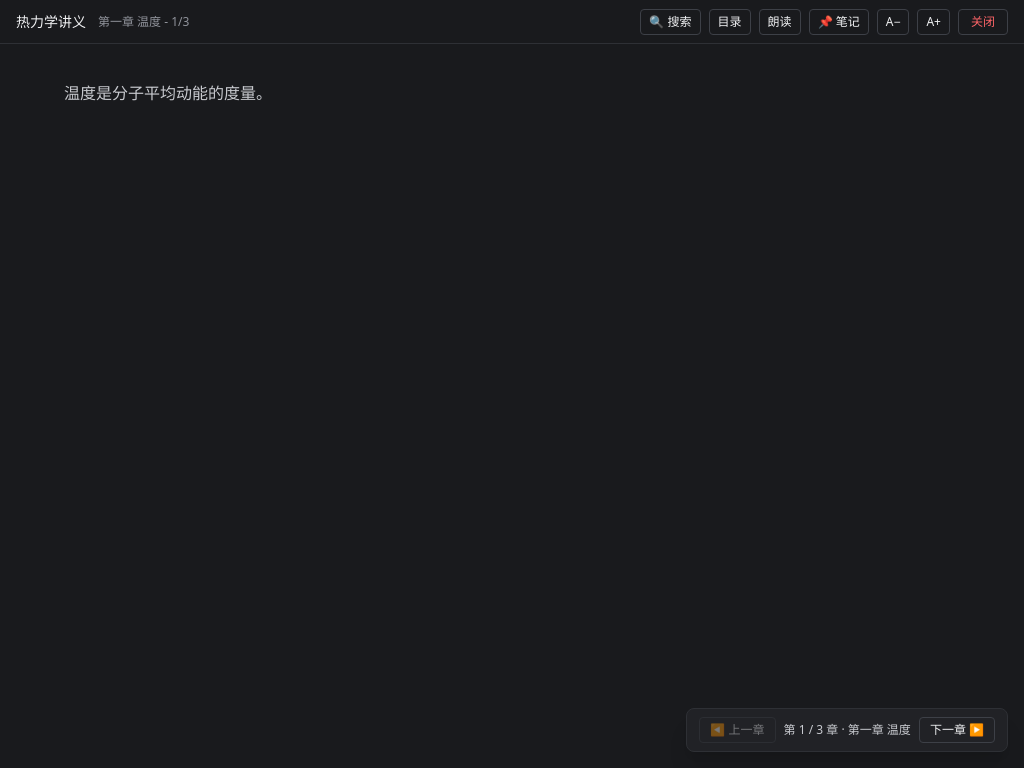
Test: EpubReaderView — search edge cases › keeps the current chapter when it already has hits and reuses cached text
Expected: the text "温度是分子平均动能的度量。" is shown, [64, 82, 272, 104]
Press f
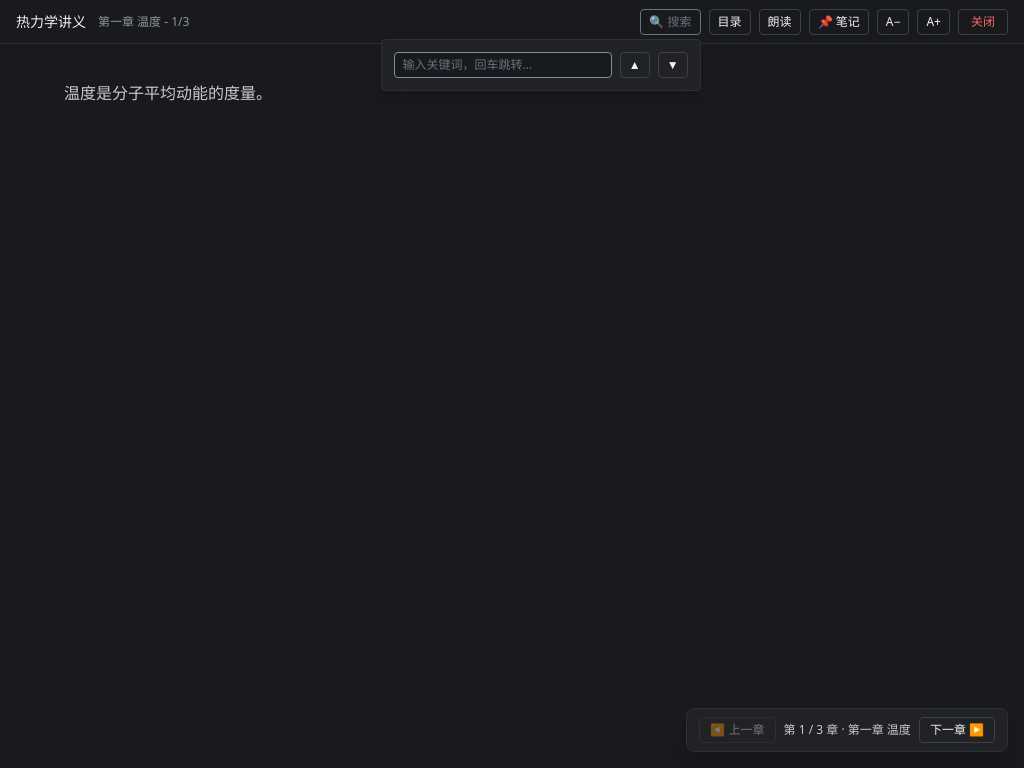
Type "温度" into the field with placeholder "输入关键词，回车跳转..." at (503, 65), box [394, 52, 612, 78]
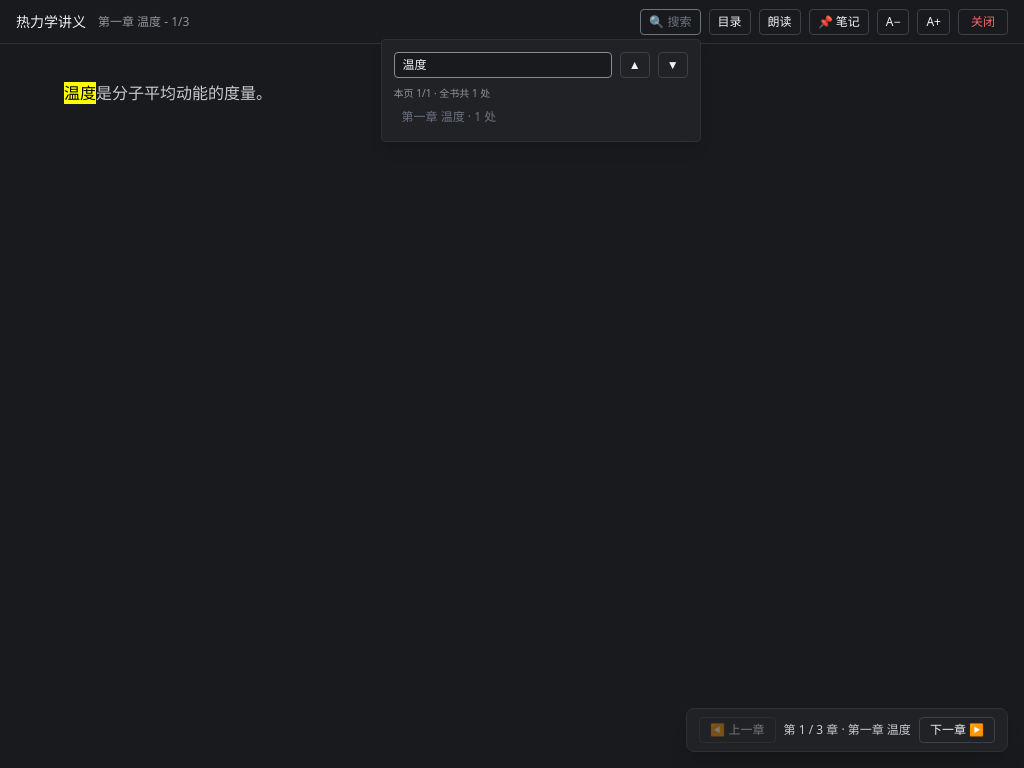
Expected: the text "第一章 温度 - 1/3" is shown, [98, 14, 190, 30]
Expected: the text "本页 1/1 · 全书共 1 处" is shown, [394, 86, 490, 100]
Replace the text in the field with placeholder "输入关键词，回车跳转..." with "不存在" at (503, 65), box [394, 52, 612, 78]
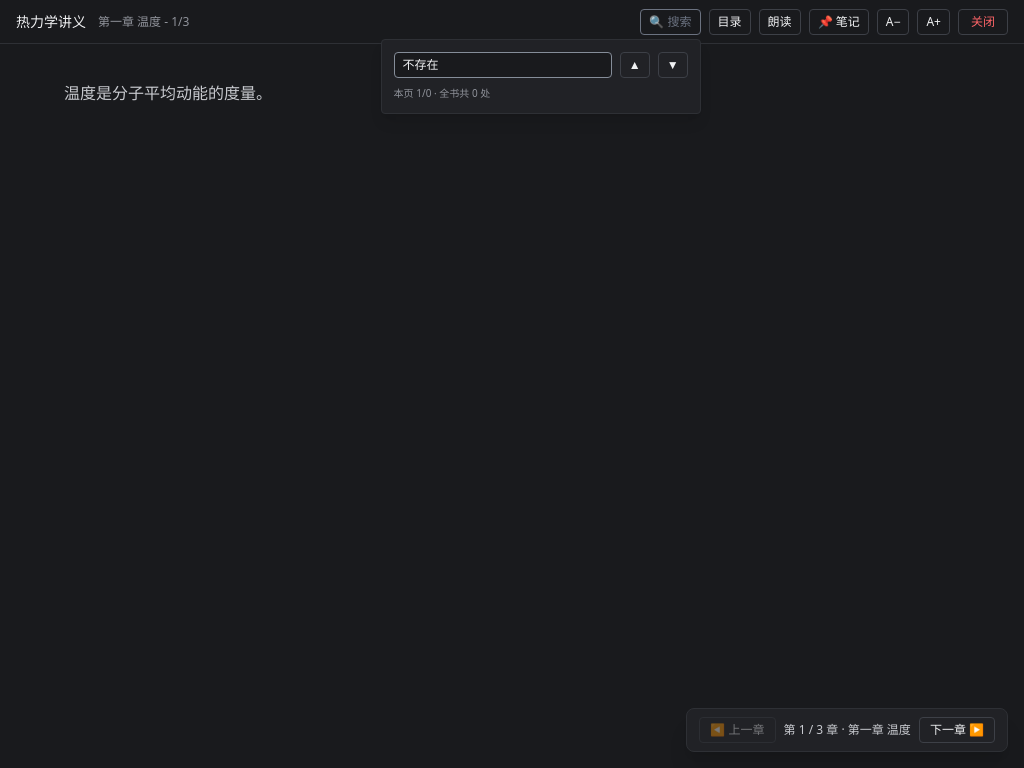
Expected: the text "第一章 温度 - 1/3" is shown, [98, 14, 190, 30]
Expected: the text "本页 1/0 · 全书共 0 处" is shown, [394, 86, 490, 100]
